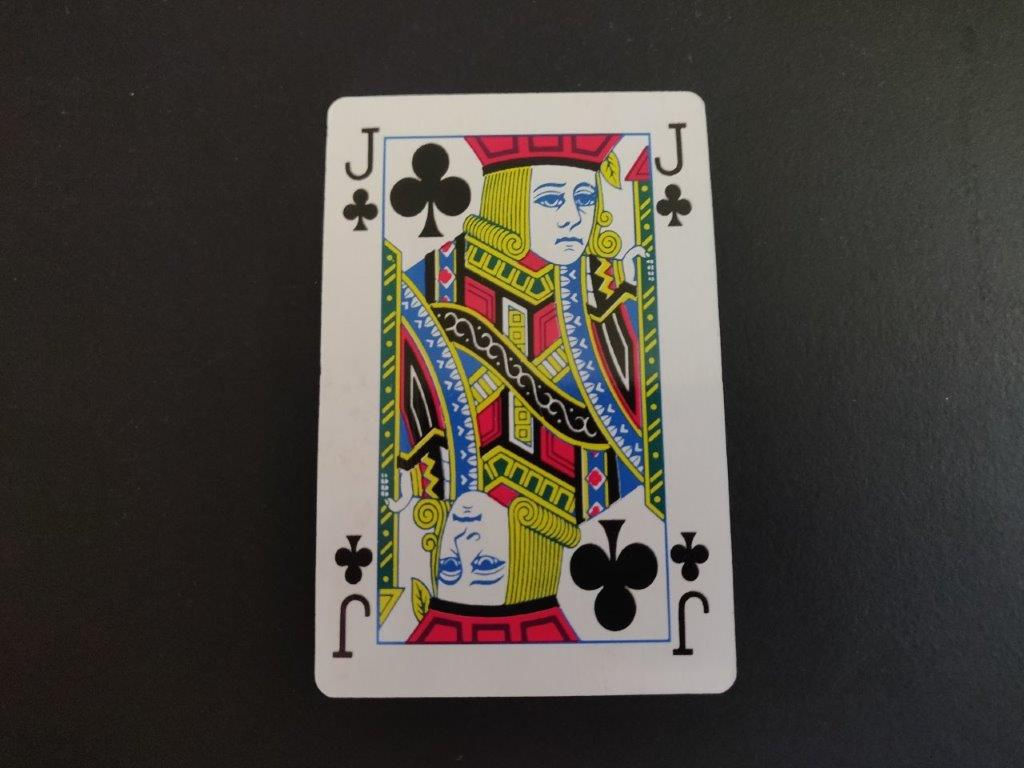JC: (652, 117, 697, 235), (341, 122, 382, 232)
